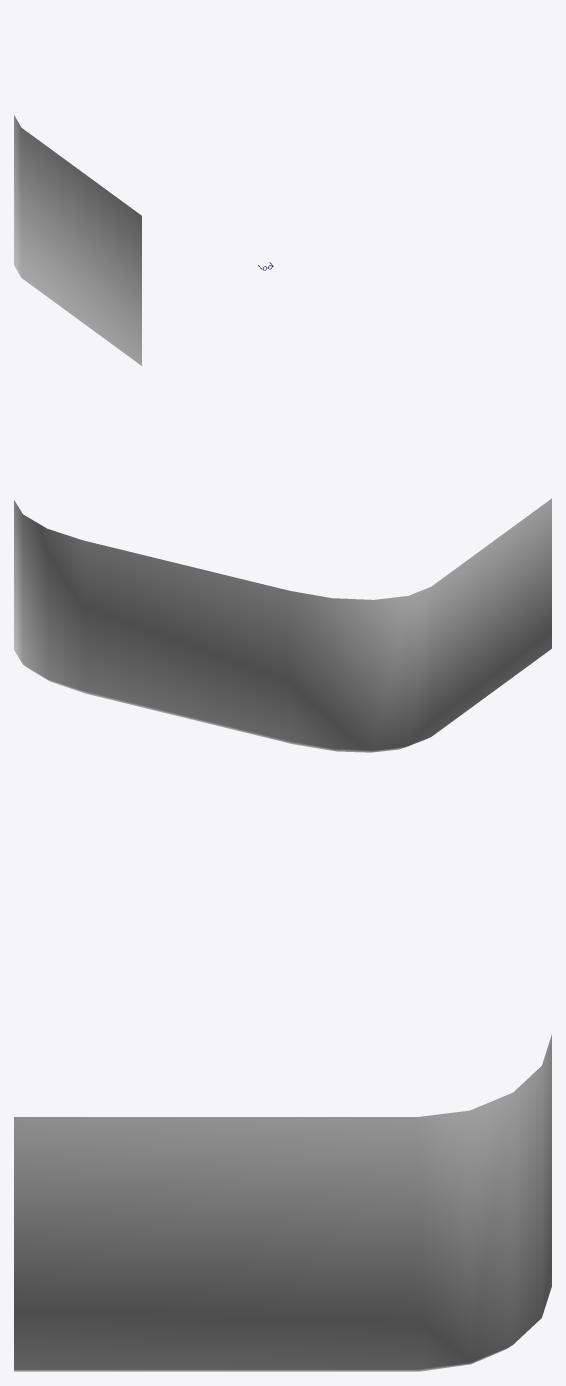
File: glasses.glb
The picture shows the model from 3 angles, top to bottom: view 1: azimuth 30°, elevation 25°; view 2: azimuth 150°, elevation 25°; view 3: azimuth 270°, elevation 25°; orthographic projection. The views are drawn at different scales.
Visible parts, largest first — view 1: Plane; view 2: Plane; view 3: Plane.
Part boxes in pixels (box(x1,y1,x2,y2)): Plane: box(14, 115, 141, 365); Plane: box(14, 498, 551, 752); Plane: box(14, 1034, 551, 1371).
Bounding box in the file's own units: 6.01 × 2.3 × 4.07.
2 materials, 1 textured.
